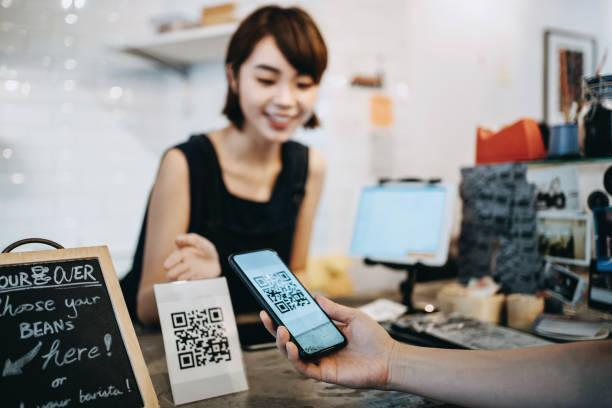qr_code: (170, 306, 231, 370), (253, 271, 312, 314)
